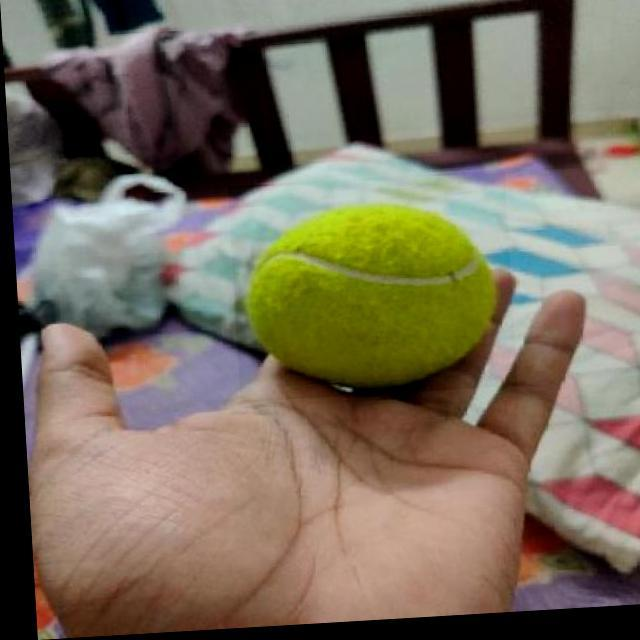-: (225, 176, 512, 405)
